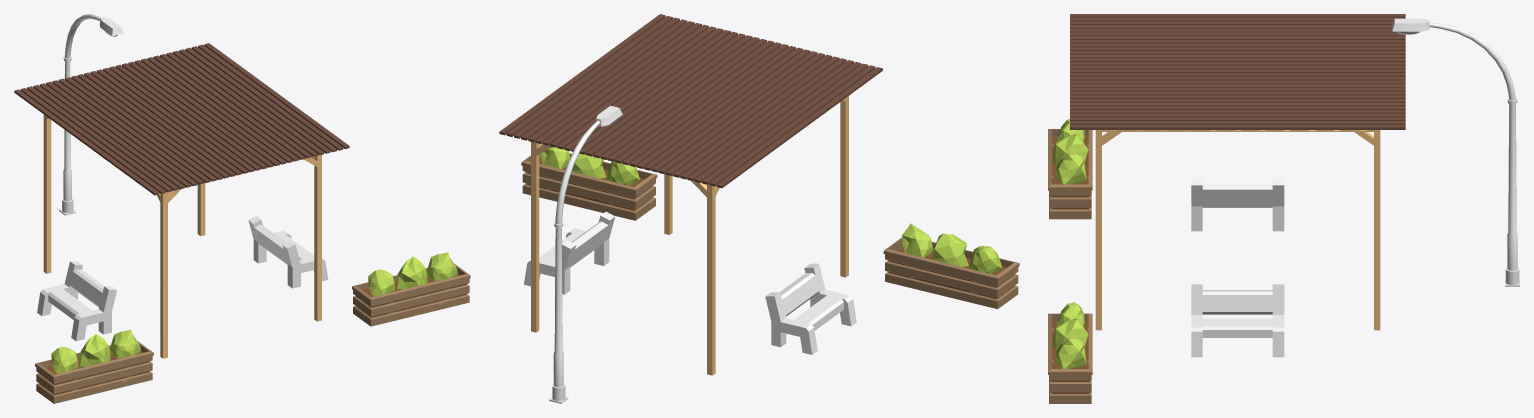
Rendered from combo-pergola-rest-area.glb.
3 renders of one model, left to right at view 1: azimuth 30°, elevation 25°; view 2: azimuth 150°, elevation 25°; view 3: azimuth 270°, elevation 25°, orthographic. The views are drawn at different scales.
Visible parts, largest first — view 1: 00_asset-064, 03_asset-072, 04_asset-072, 01_asset-007, 02_asset-007, 05_asset-075; view 2: 00_asset-064, 03_asset-072, 04_asset-072, 01_asset-007, 05_asset-075, 02_asset-007; view 3: 00_asset-064, 02_asset-007, 04_asset-072, 03_asset-072, 05_asset-075, 01_asset-007.
Boxes of the visible parts, x1,y1,x2,y2 form: 00_asset-064: (14,43,349,358); 03_asset-072: (35,329,153,403); 04_asset-072: (352,252,470,326); 01_asset-007: (37,261,116,341); 02_asset-007: (248,216,328,288); 05_asset-075: (59,14,123,215); 00_asset-064: (499,14,882,375); 03_asset-072: (883,223,1019,309); 04_asset-072: (521,147,657,220); 01_asset-007: (765,263,856,354); 05_asset-075: (549,105,622,403); 02_asset-007: (524,211,615,294); 00_asset-064: (1070,14,1405,330); 02_asset-007: (1191,284,1284,357); 04_asset-072: (1048,302,1092,403); 03_asset-072: (1048,119,1092,219); 05_asset-075: (1392,18,1519,286); 01_asset-007: (1191,177,1284,231).
Bounding box in the file's own units: 7.9 × 3.99 × 6.48.
